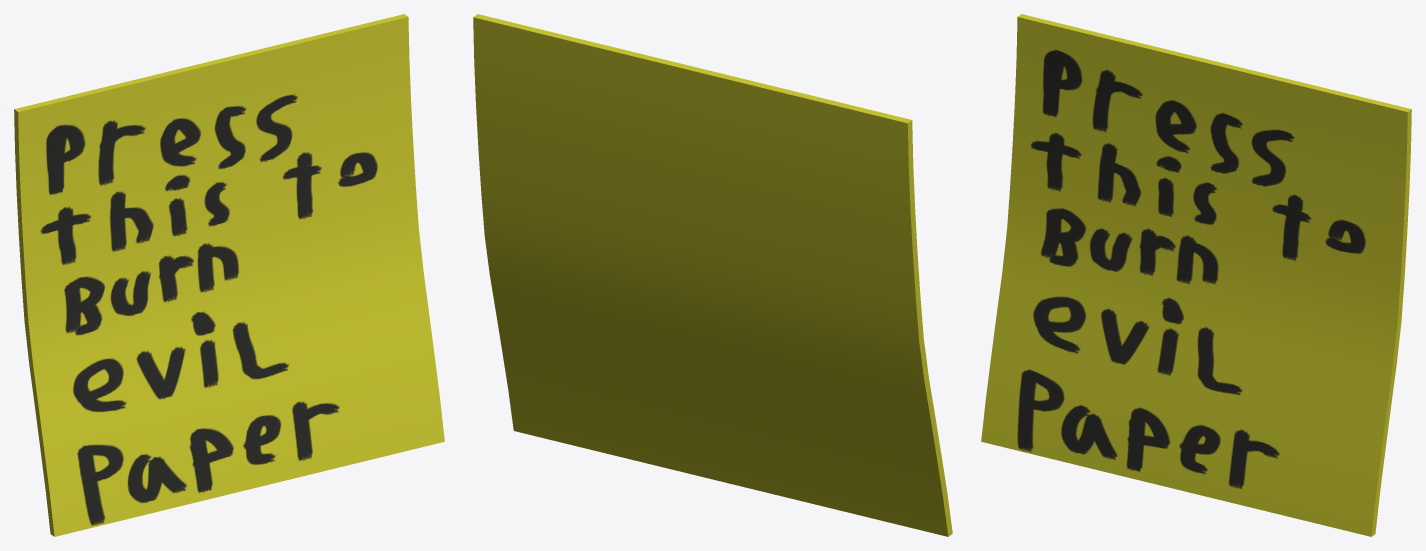
File: press this to burn evil paper.fbx
3 views of the same model, side by side, from view 1: azimuth 30°, elevation 25°; view 2: azimuth 150°, elevation 25°; view 3: azimuth 330°, elevation 25° (orthographic). The views are drawn at different scales.
Parts seen in each view (by area): view 1: pPlane1; view 2: pPlane1; view 3: pPlane1.
Boxes of the visible parts, x1,y1,x2,y2 form: pPlane1: [14, 14, 444, 536]; pPlane1: [473, 14, 952, 536]; pPlane1: [981, 14, 1411, 536].
Size of the model in its own units: 8.93 by 8.7 by 1.6.
